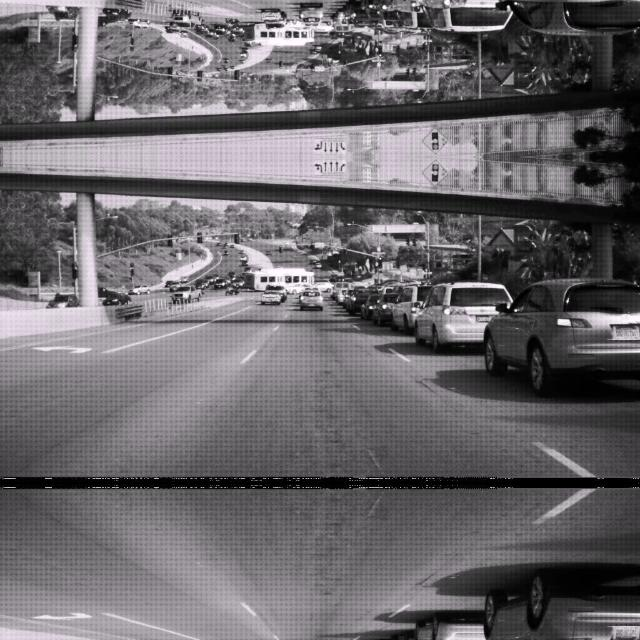signalAhead: (422, 158, 448, 185), (422, 128, 448, 154)
